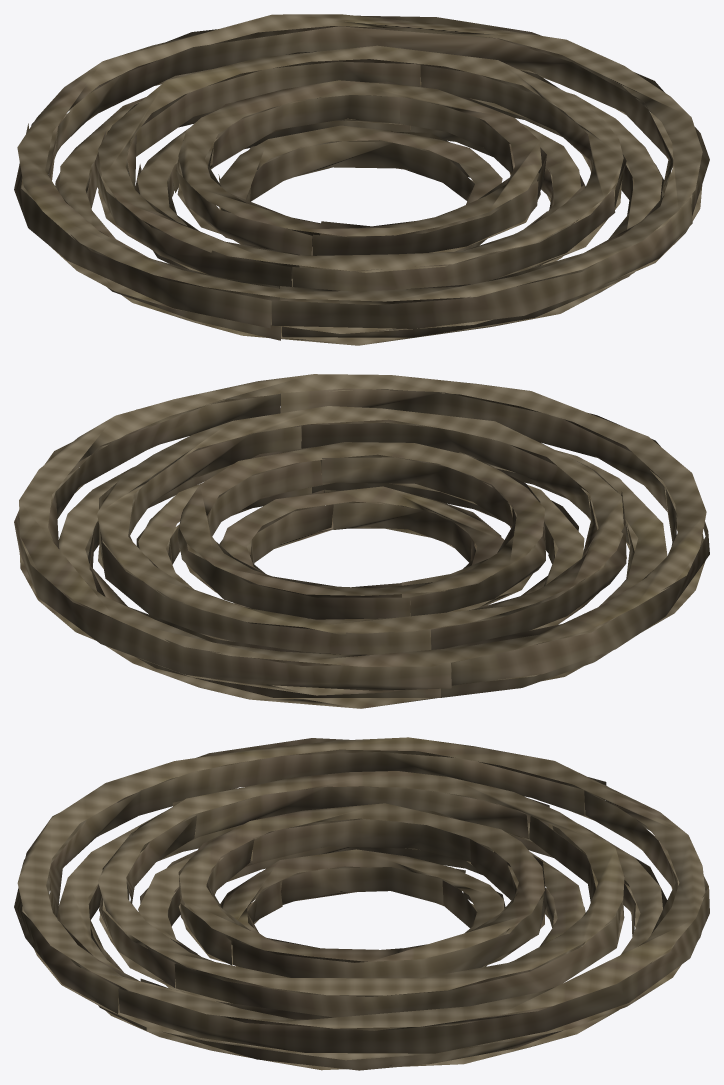
File: W26_RopeCoil.glb
3 renders of one model, top to bottom at view 1: azimuth 30°, elevation 25°; view 2: azimuth 150°, elevation 25°; view 3: azimuth 270°, elevation 25°, orthographic.
Parts seen in each view (by area): view 1: W26_RopeCoil; view 2: W26_RopeCoil; view 3: W26_RopeCoil.
Boxes of the visible parts, x1=… form: W26_RopeCoil: x1=14, y1=14, x2=709, y2=345; W26_RopeCoil: x1=14, y1=374, x2=709, y2=708; W26_RopeCoil: x1=14, y1=737, x2=709, y2=1070.
Bounding box in the file's own units: 0.3979 × 0.0406 × 0.399.
Materials: 1 (1 with a texture image).
